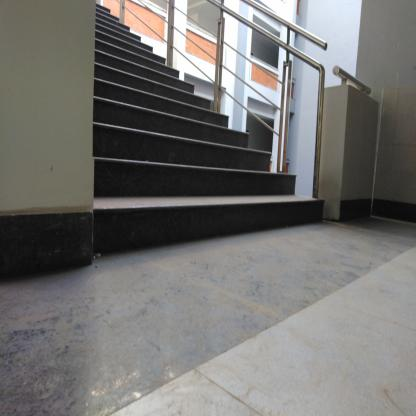stairs: (97, 63, 190, 262)
